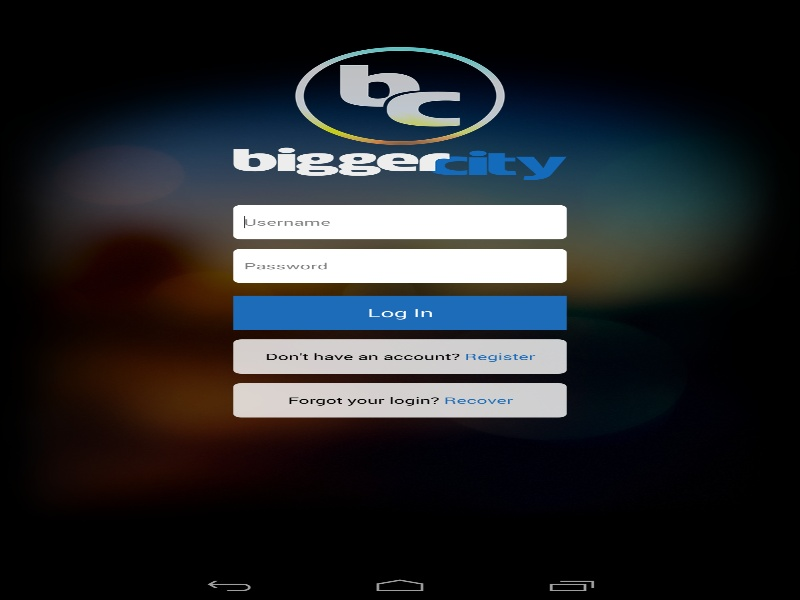Button: (233, 295, 566, 330)
Input: (233, 248, 566, 283), (233, 205, 566, 239)
